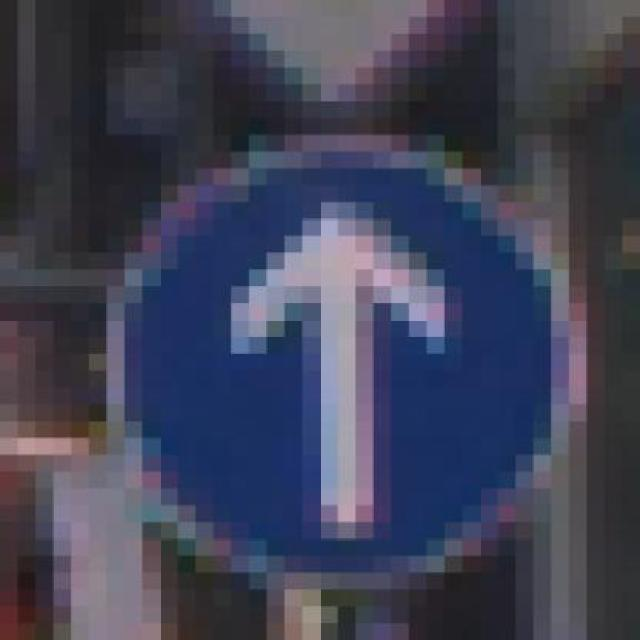Straight Ahead Only: (71, 118, 587, 607)
